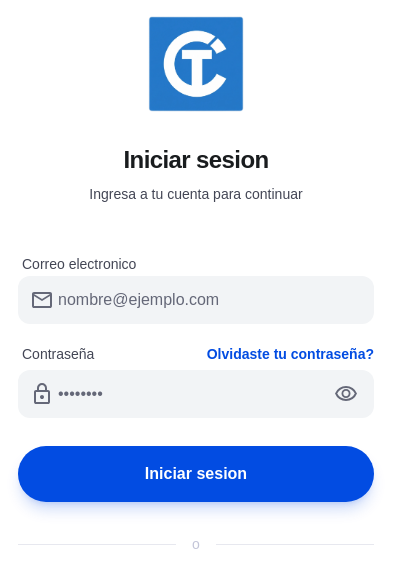
Scenario: Login Component › muestra errores de validacion de Zod si se envía el formulario vacio
The width and height of the screenshot is (393, 573).
Step 1. Click the button "Iniciar sesion" → (196, 474), box [18,446,374,502]
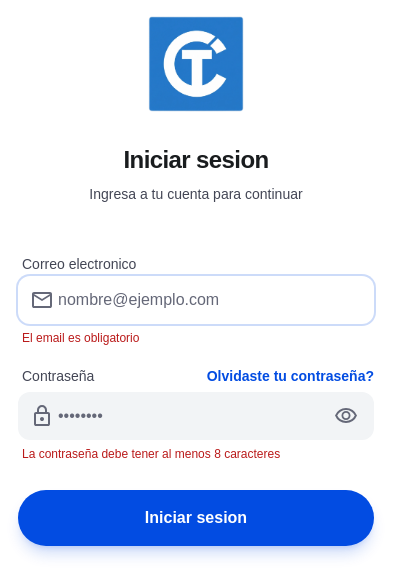
Expected: the text "El email es obligatorio" is shown, [22,331,139,345]
Expected: the text "La contraseña debe tener al menos 8 caracteres" is shown, [22,447,280,461]
